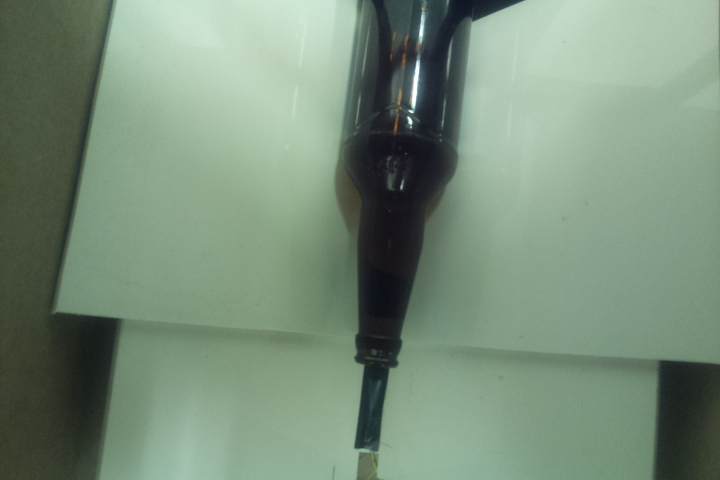makju: (335, 1, 473, 369)
